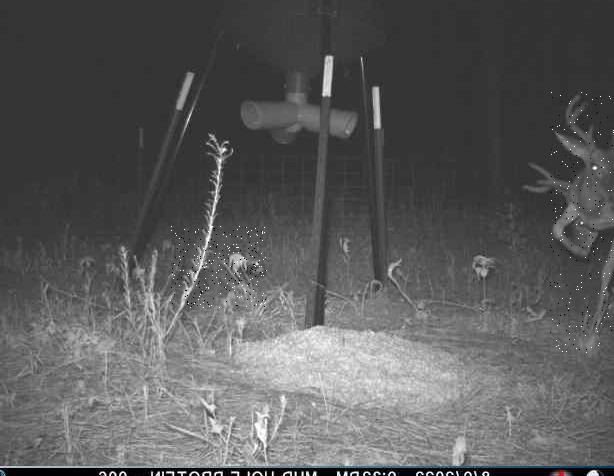Deer: (550, 91, 614, 353)
Raccoon: (169, 227, 266, 309)
